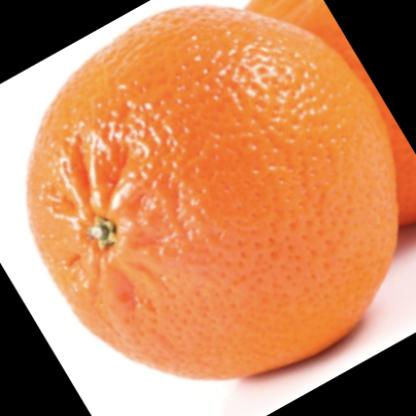fresh: (23, 9, 401, 380)
